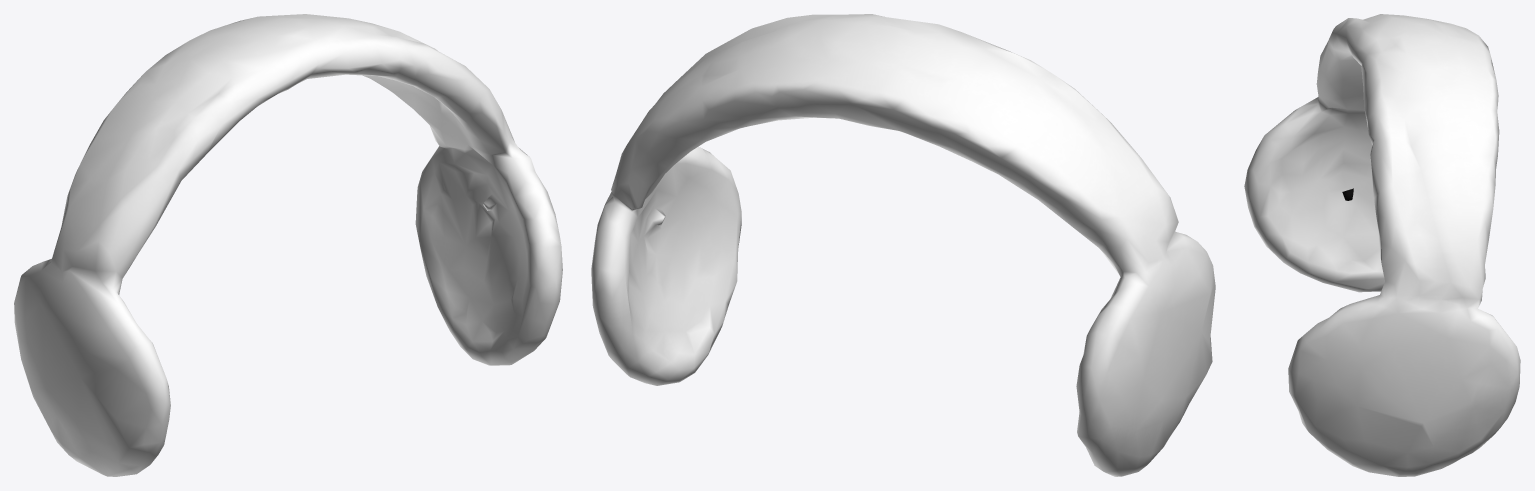
File: white headphones.glb
3 renders of one model, left to right at view 1: azimuth 30°, elevation 25°; view 2: azimuth 150°, elevation 25°; view 3: azimuth 270°, elevation 25°, orthographic. The views are drawn at different scales.
Parts seen in each view (by area): view 1: headphones_white.001; view 2: headphones_white.001; view 3: headphones_white.001.
Part boxes in pixels (left/top/right/bottom): headphones_white.001: left=14, top=14, right=562, bottom=476; headphones_white.001: left=591, top=14, right=1215, bottom=476; headphones_white.001: left=1244, top=14, right=1520, bottom=476.
Bounding box in the file's own units: 0.382 × 0.2793 × 0.2017.
Materials: 1 (1 with a texture image).
